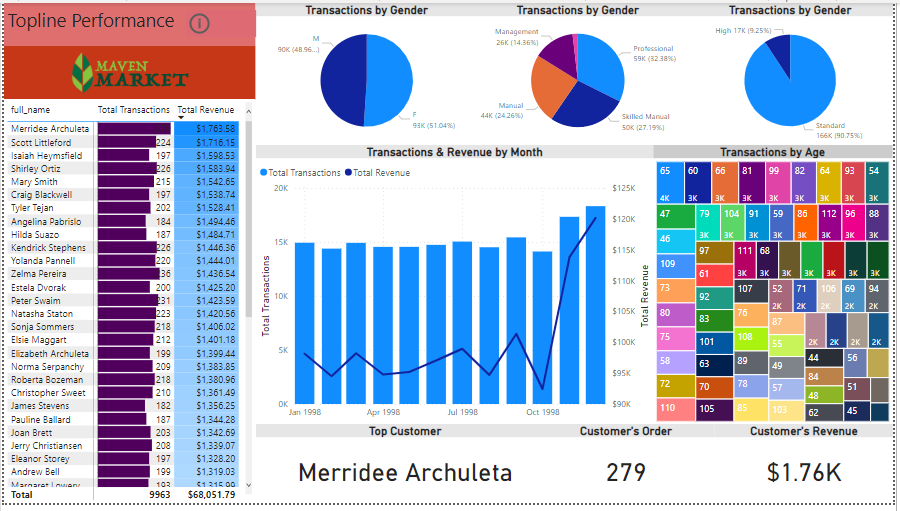

What the dashboard file says about the page in this screenshot:
{"tool":"powerbi","page":{"name":"Customer Detail","canvas":[1280,720],"ordinal":2},"visuals":[{"type":"image","box":[0,61.5,362.3,76.9],"z":0},{"type":"pivotTable","fields":{"Rows":["Customers.full_name"],"Values":["Key Measures.Total Transactions","Key Measures.Total Revenue"]},"box":[0,138.4,362.3,582.8],"z":1000},{"type":"treemap","title":"Transactions by Age","fields":{"Values":["Key Measures.Total Transactions"],"Group":["Customers.Current Age"]},"box":[935.2,204,344.8,402.6],"z":2000},{"type":"pieChart","title":"Transactions by Gender","fields":{"Category":["Customers.gender"],"Y":["Key Measures.Total Transactions"]},"box":[363,0,319,204],"z":3000},{"type":"pieChart","title":"Transactions by Gender","fields":{"Category":["Customers.occupation"],"Y":["Key Measures.Total Transactions"]},"box":[653,0,348,204],"z":4000},{"type":"pieChart","title":"Transactions by Gender","fields":{"Y":["Key Measures.Total Transactions"],"Category":["Customers.Priority"]},"box":[983,0,297,204],"z":5000},{"type":"lineStackedColumnComboChart","title":"Transactions & Revenue by Month","fields":{"Category":["Calendar.Start of Month"],"Y":["Key Measures.Total Transactions"],"Y2":["Key Measures.Total Revenue"]},"box":[362.9,204,572.3,402.6],"z":6000},{"type":"card","title":"Top Customer","fields":{"Values":["Min(Customers.full_name)"]},"box":[362.9,606.6,429.7,113.7],"z":7000},{"type":"card","title":"Customer''s Order","fields":{"Values":["Key Measures.Total Transactions"]},"box":[767.3,606.6,256.4,113.7],"z":8000},{"type":"card","title":"Customer''s Revenue","fields":{"Values":["Key Measures.Total Revenue"]},"box":[1023.6,606.6,256.4,113.7],"z":9000},{"type":"textbox","box":[0,0,362.3,61.5],"z":9001},{"type":"actionButton","box":[261.5,10.3,100.8,39.3],"z":9002}]}

Visuals, with their boxes in screenshot pixels (x1, y1, x2, y2), scaled from the page's 1280x720 canvas onto the 900x511 screenshot:
image: left=0, top=44, right=255, bottom=98
pivotTable - Customers.full_name x Key Measures.Total Transactions: left=0, top=98, right=255, bottom=510
"Transactions by Age" treemap: left=658, top=145, right=899, bottom=431
"Transactions by Gender" pieChart: left=255, top=0, right=480, bottom=145
"Transactions by Gender" pieChart: left=459, top=0, right=704, bottom=145
"Transactions by Gender" pieChart: left=691, top=0, right=899, bottom=145
"Transactions & Revenue by Month" lineStackedColumnComboChart: left=255, top=145, right=658, bottom=431
"Top Customer" card: left=255, top=431, right=557, bottom=510
"Customer''s Order" card: left=540, top=431, right=720, bottom=510
"Customer''s Revenue" card: left=720, top=431, right=899, bottom=510
textbox: left=0, top=0, right=255, bottom=44
actionButton: left=184, top=7, right=255, bottom=35
